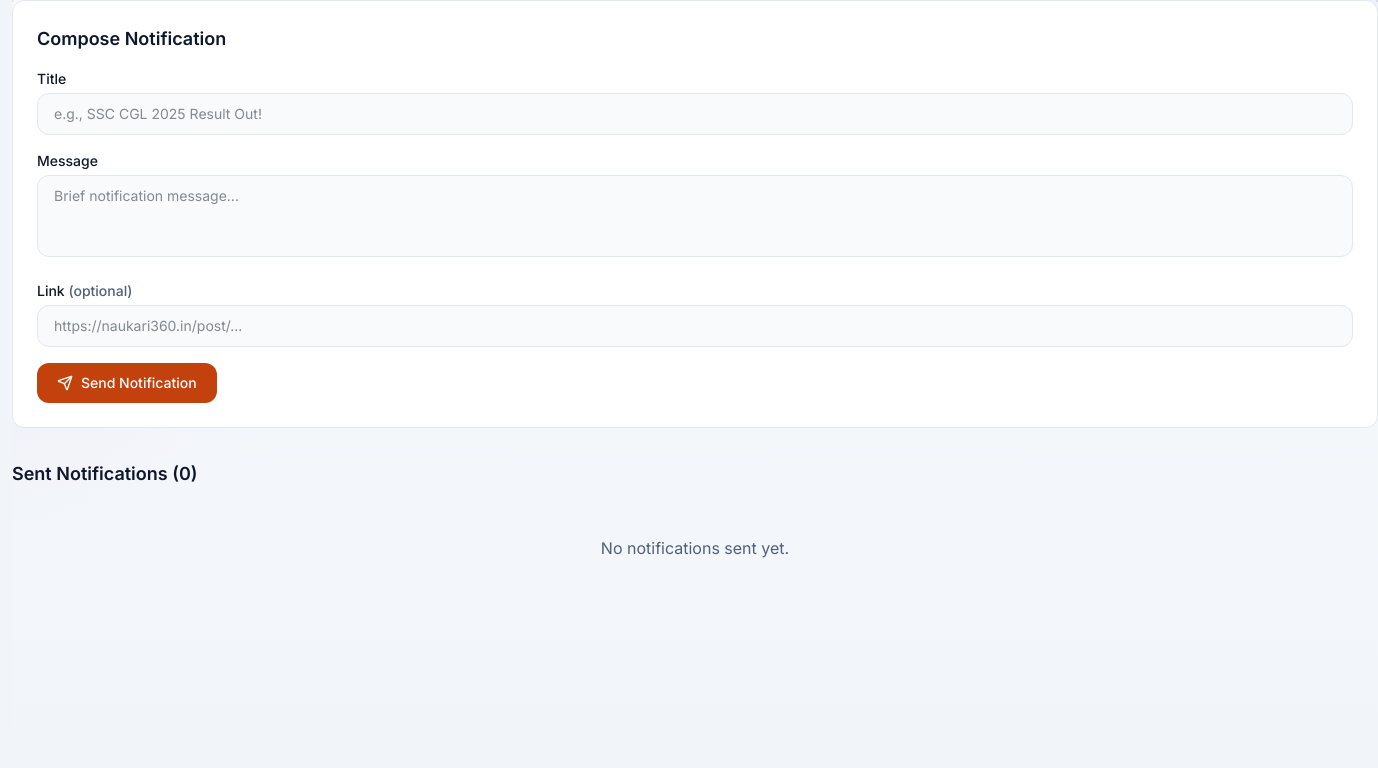
Test: NotificationComposer › sends notification on form submit
In the field with placeholder "e.g., SSC CGL 2025 Result Out!": coordinates (695, 114) [37,93,1353,135], type "New Alert"
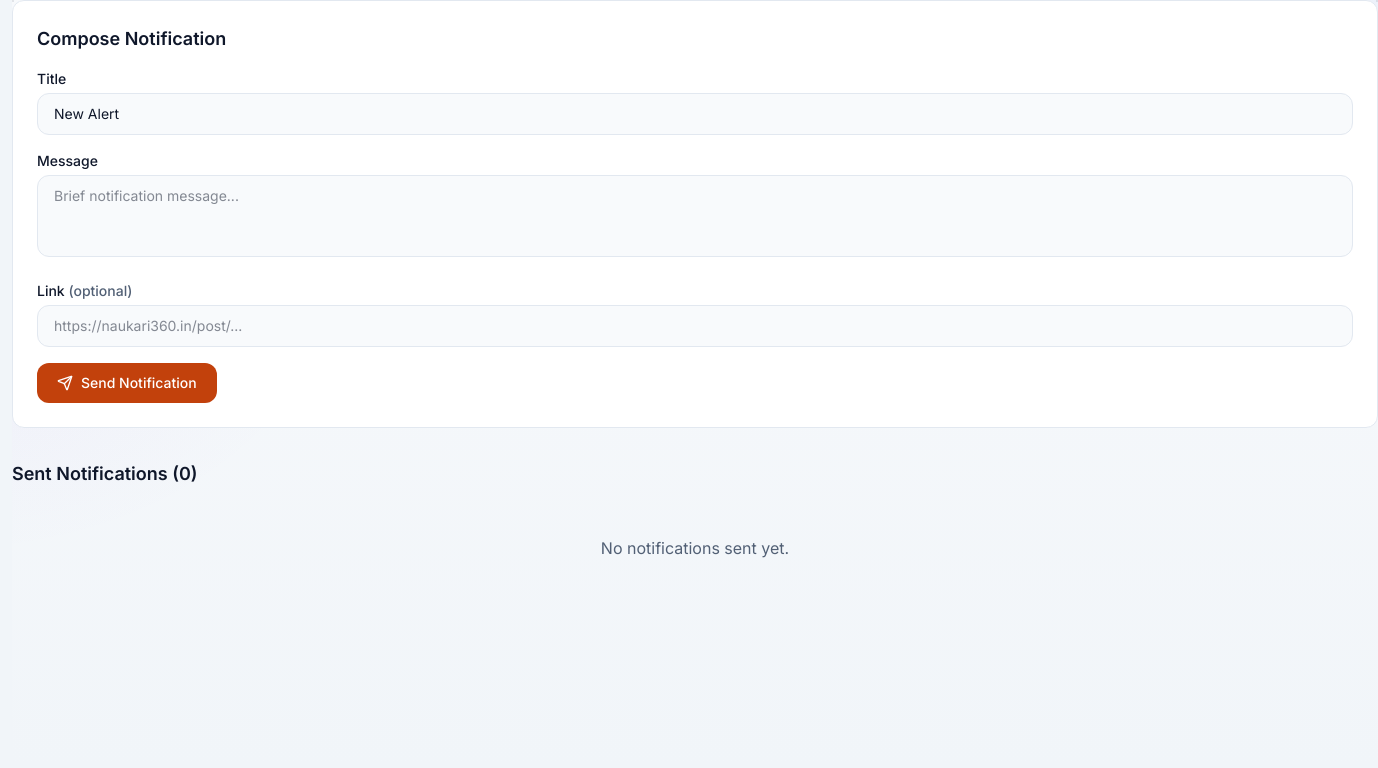
In the text box with placeholder "Brief notification message...": coordinates (695, 216) [37,175,1353,257], type "Check this out"
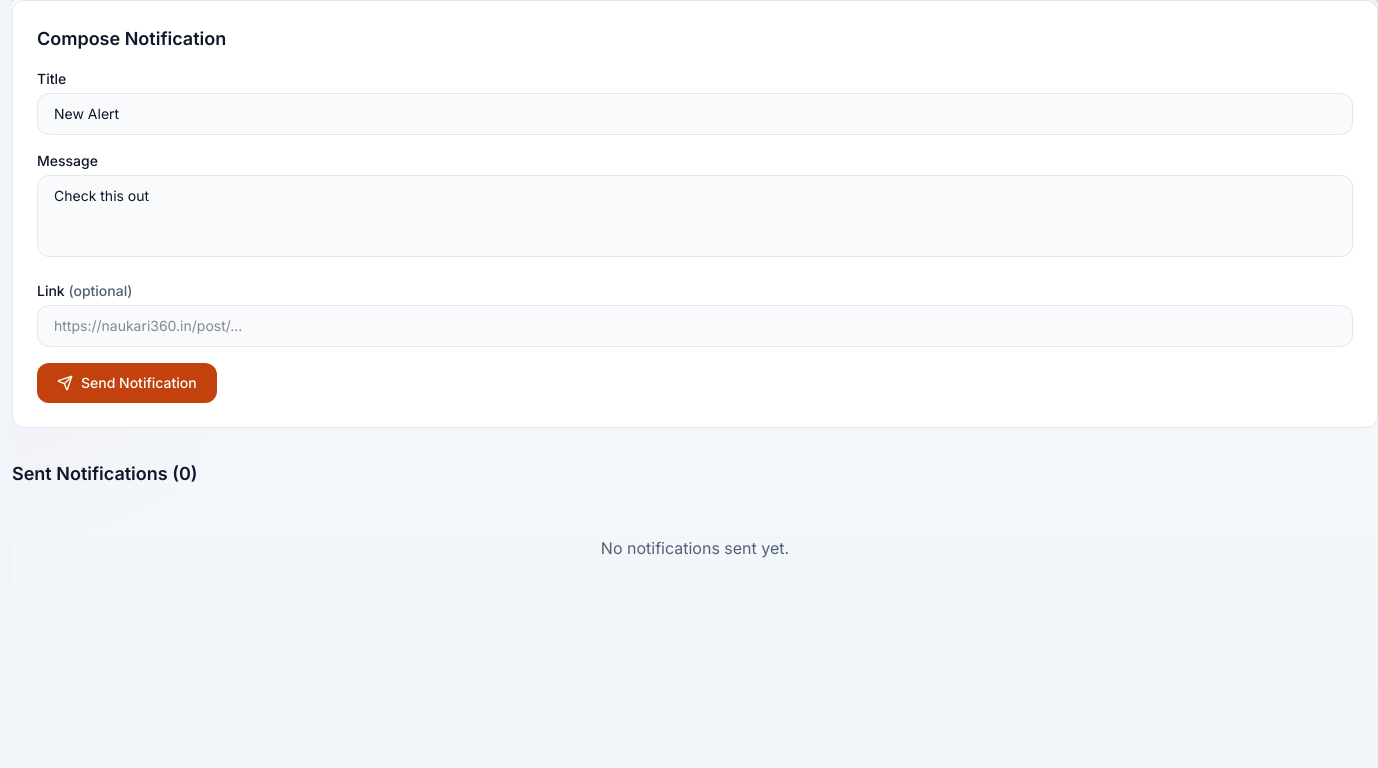
Click the button "Send Notification": coordinates (127, 383) [37,363,217,403]
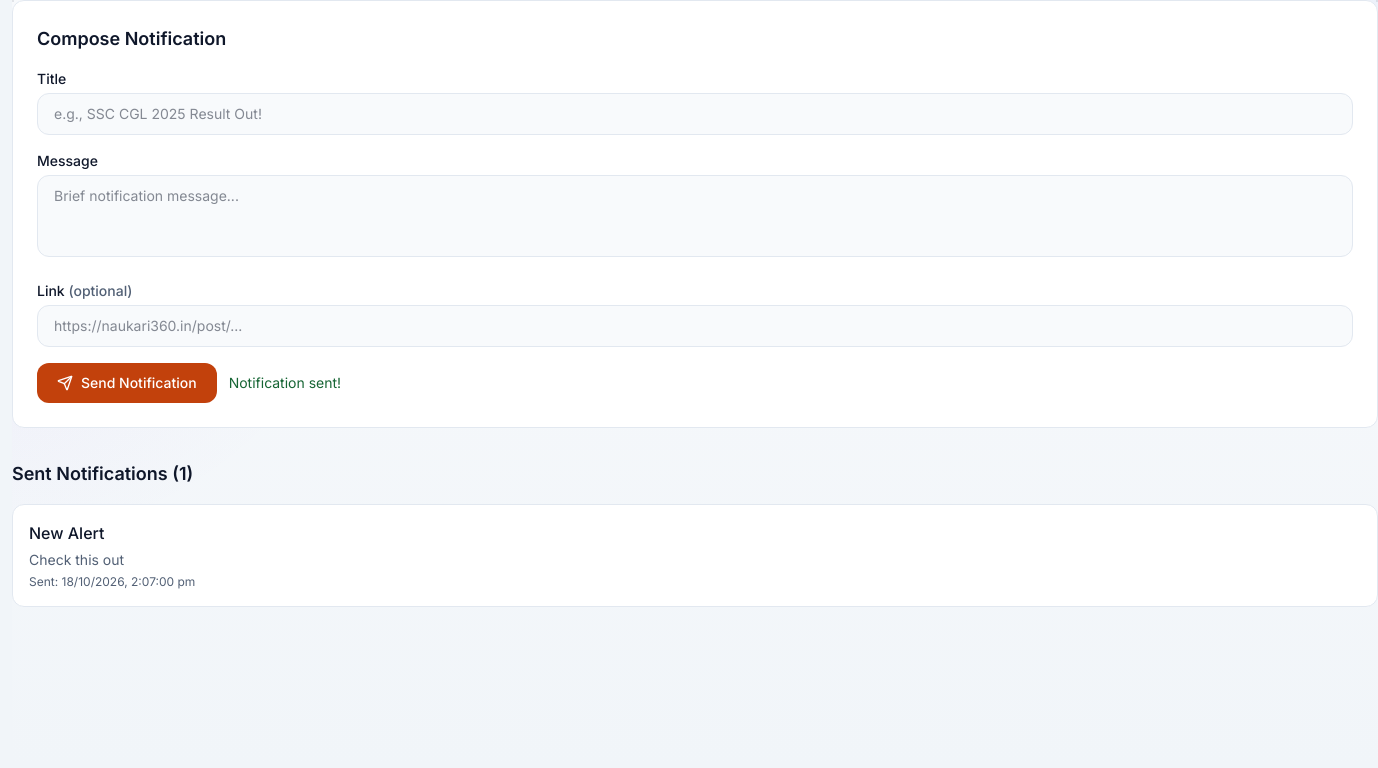
Check: the text "Notification sent!" is shown, box [229,373,341,393]
